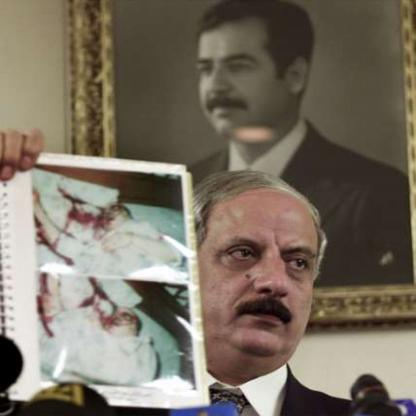face: (186, 177, 323, 369), (194, 1, 293, 145)
